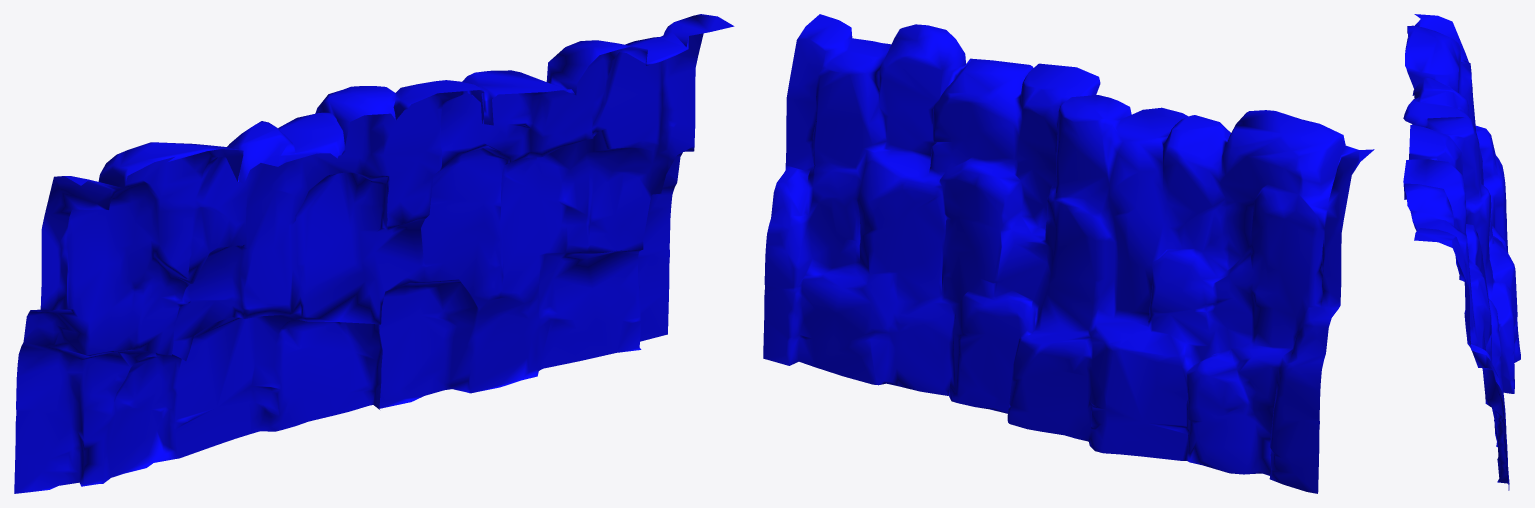
Rendered from SM_Volcano_RockWall.fbx.
3 renders of one model, left to right at view 1: azimuth 30°, elevation 25°; view 2: azimuth 150°, elevation 25°; view 3: azimuth 270°, elevation 25°, orthographic. The views are drawn at different scales.
Parts seen in each view (by area): view 1: Volcano_CliffBorder_low; view 2: Volcano_CliffBorder_low; view 3: Volcano_CliffBorder_low.
Boxes of the visible parts, x1,y1,x2,y2 form: Volcano_CliffBorder_low: (14,14,734,493); Volcano_CliffBorder_low: (763,14,1374,493); Volcano_CliffBorder_low: (1403,14,1520,490).
Size of the model in its own units: 5000 by 2742 by 1099.
